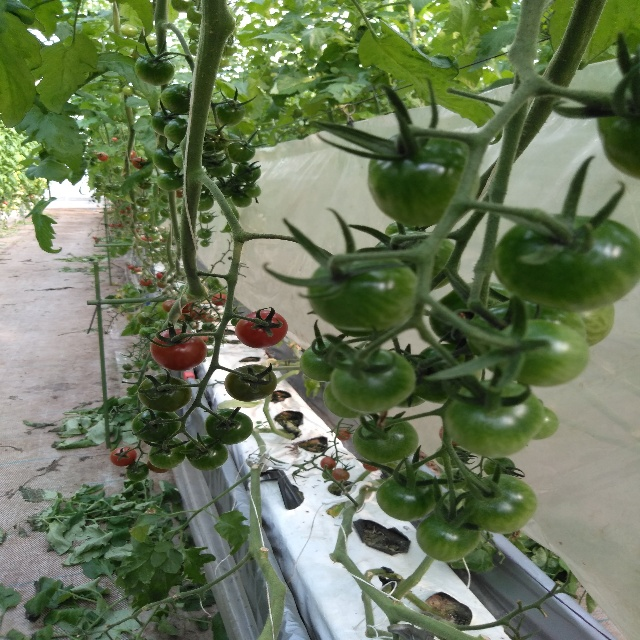l_fully_ripened: (150, 329, 208, 371), (235, 310, 288, 349), (110, 447, 137, 466), (211, 293, 227, 306)
l_green: (494, 214, 640, 312), (367, 131, 480, 226), (307, 253, 420, 331), (447, 379, 544, 458), (464, 302, 586, 360), (492, 320, 588, 388), (330, 349, 416, 413), (429, 282, 513, 345), (463, 474, 537, 534), (376, 468, 442, 521), (416, 510, 480, 562), (353, 417, 418, 464), (300, 339, 354, 382), (137, 374, 193, 412), (224, 364, 277, 402), (205, 408, 253, 445), (576, 302, 615, 347), (323, 383, 371, 419), (131, 410, 181, 442), (186, 435, 228, 471), (134, 54, 174, 86), (148, 437, 186, 469), (160, 84, 192, 115), (151, 110, 185, 137), (215, 98, 245, 128), (533, 406, 559, 440), (225, 141, 256, 163), (203, 129, 230, 154), (164, 118, 188, 145), (152, 148, 180, 171), (483, 457, 515, 476), (156, 172, 185, 191), (234, 162, 261, 182), (206, 159, 233, 177), (126, 462, 149, 482), (231, 191, 252, 208), (198, 192, 214, 212), (137, 312, 155, 326), (245, 184, 261, 198), (173, 152, 183, 168)
l_half_ripened: (162, 299, 177, 313)
